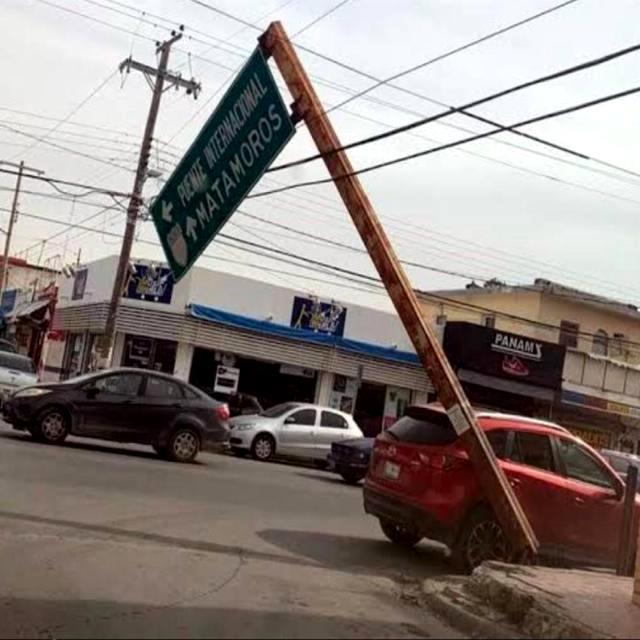Broken Pole: (145, 16, 540, 563)
